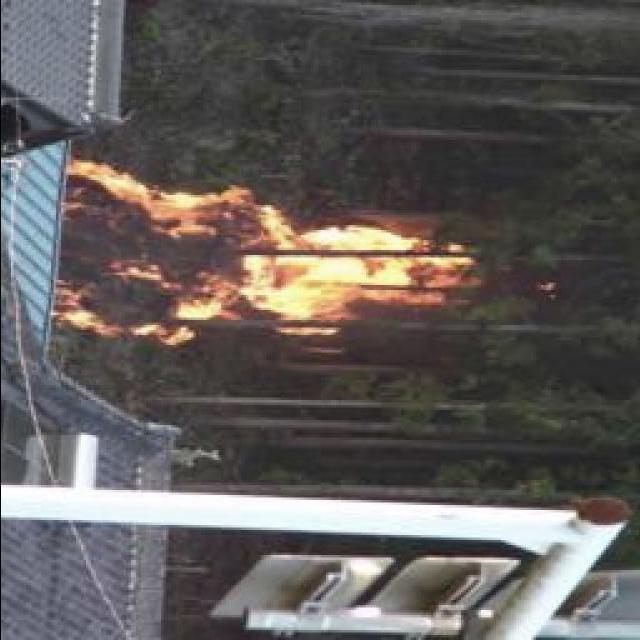Fire: (59, 177, 498, 338)
